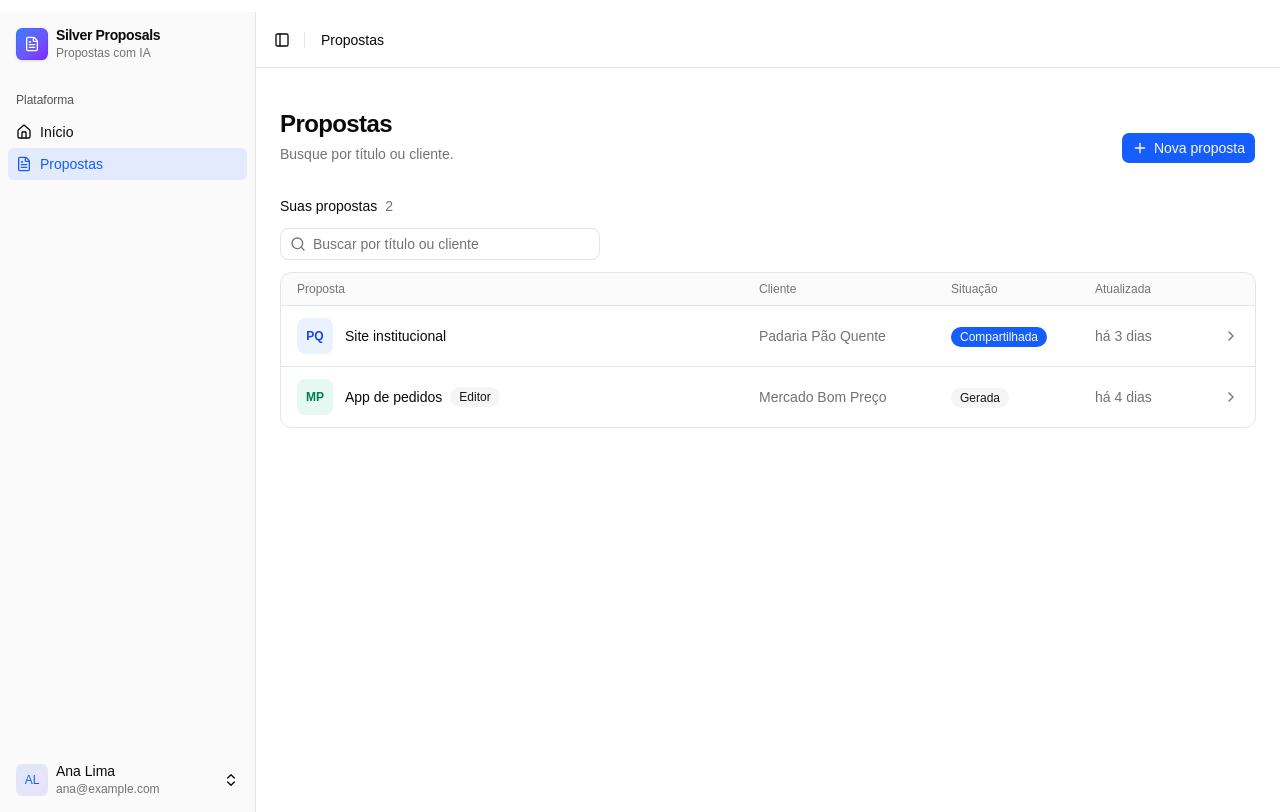
Test case: ProposalsPage › searches on the server and starts again from the first page
The width and height of the screenshot is (1280, 812).
In the search field named "Buscar propostas": (440, 244) top-left (280, 228), bottom-right (600, 260), type "xyz"
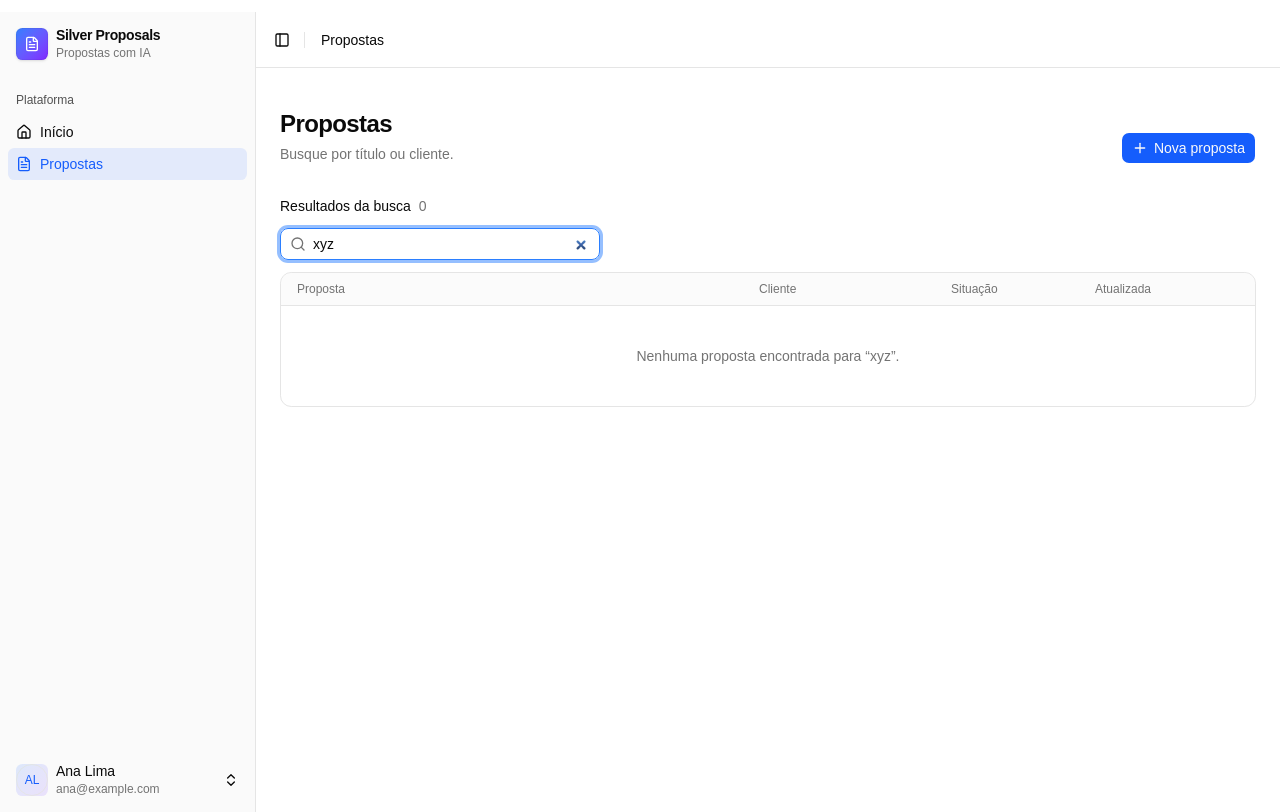
Expected: the text "Nenhuma proposta encontrada para “xyz”." is shown, top-left (636, 348), bottom-right (900, 364)
Expected: the heading "Resultados da busca 0" is shown, top-left (280, 198), bottom-right (427, 214)
